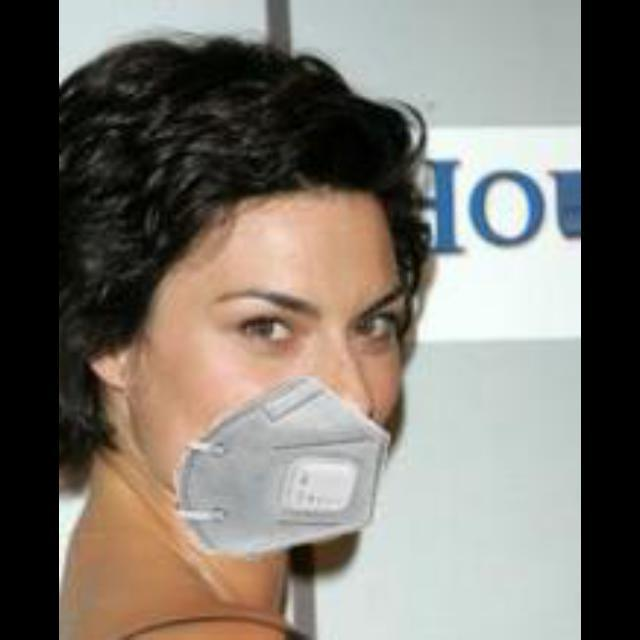suspicion: (102, 123, 448, 572)
